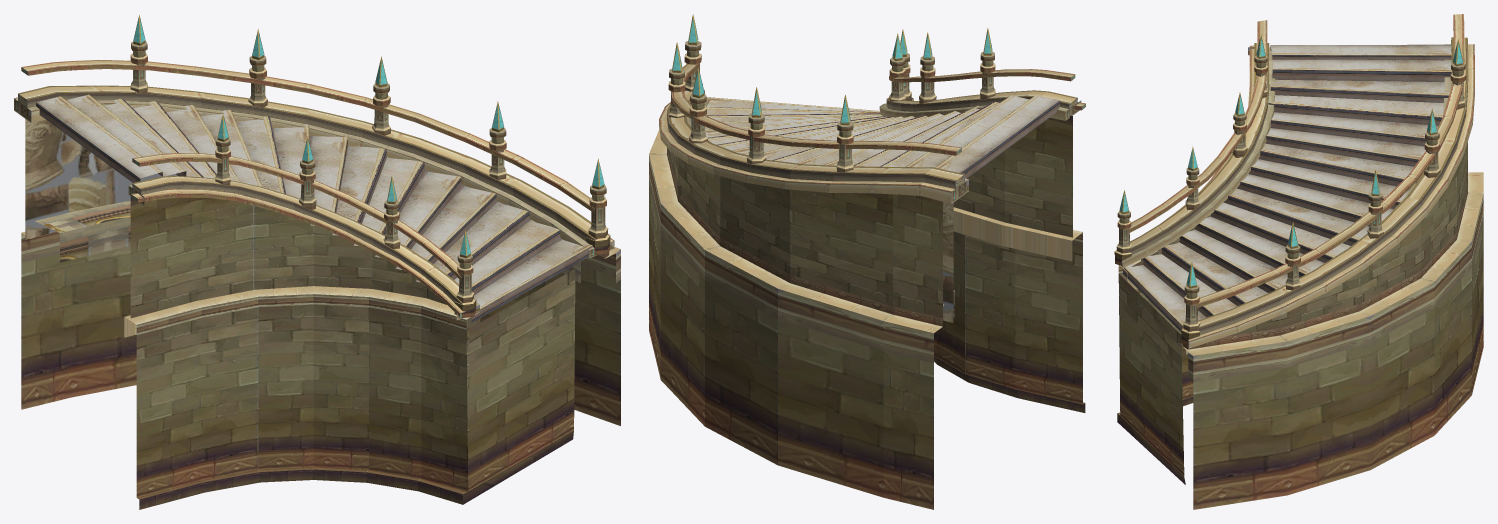
The model's file is S_Build_City111.FBX.
3 renders of one model, left to right at view 1: azimuth 30°, elevation 25°; view 2: azimuth 150°, elevation 25°; view 3: azimuth 270°, elevation 25°, orthographic. The views are drawn at different scales.
Parts seen in each view (by area): view 1: S_Build_City111; view 2: S_Build_City111; view 3: S_Build_City111.
Part boxes in pixels (box(x1,y1,x2,y2)): S_Build_City111: box(14, 15, 620, 509); S_Build_City111: box(649, 14, 1085, 509); S_Build_City111: box(1114, 14, 1483, 509).
Bounding box in the file's own units: 5384 × 4339 × 4379.
